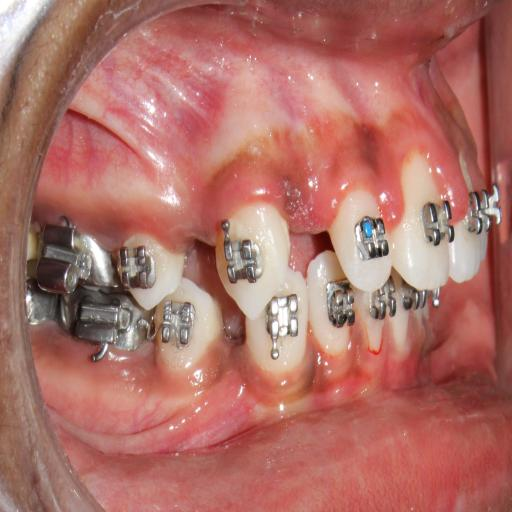correct_brace: (119, 229, 182, 311), (420, 196, 456, 246), (224, 239, 261, 285), (354, 215, 387, 262)
incorrect_brace: (333, 186, 391, 289), (120, 244, 156, 290)
